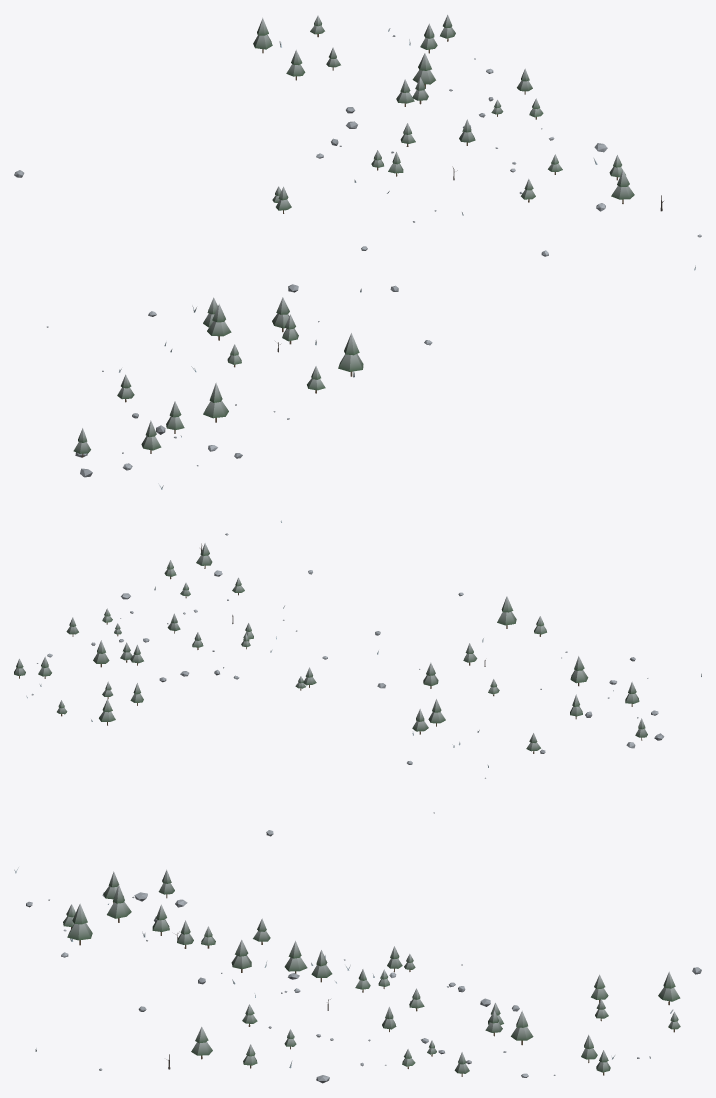
The model's file is frost_land_scatter_c12_11_lod1.glb.
The picture shows the model from 3 angles, top to bottom: view 1: azimuth 30°, elevation 25°; view 2: azimuth 150°, elevation 25°; view 3: azimuth 270°, elevation 25°; orthographic projection. The views are drawn at different scales.
Visible parts, largest first — view 1: frost_land_scatter_c12_11_lod1; view 2: frost_land_scatter_c12_11_lod1; view 3: frost_land_scatter_c12_11_lod1.
Boxes of the visible parts, bbox=[...] form: frost_land_scatter_c12_11_lod1: bbox=[14, 14, 701, 489]; frost_land_scatter_c12_11_lod1: bbox=[14, 520, 701, 836]; frost_land_scatter_c12_11_lod1: bbox=[14, 867, 701, 1083].
Size of the model in its own units: 252 by 59.26 by 254.
